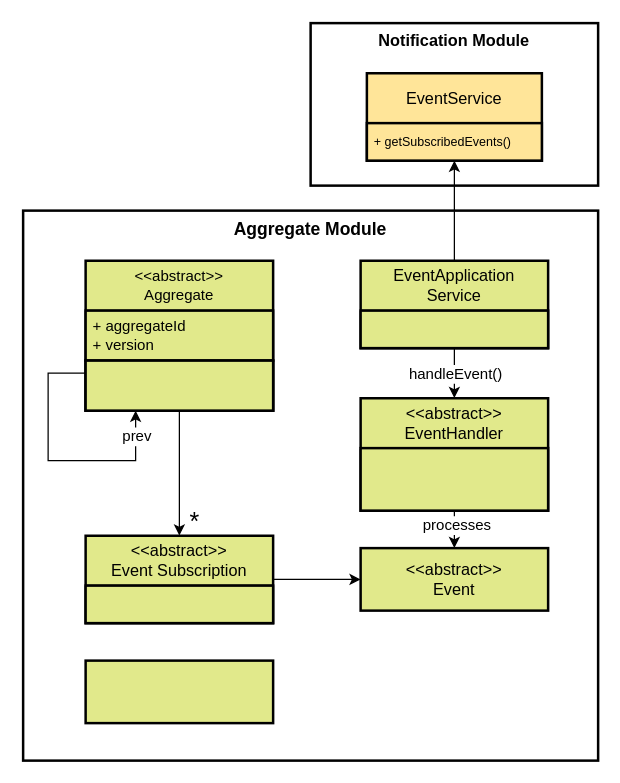
The diagram is 620 pixels wide and 783 high, and some of its shapes have lost their labels. The shapes that lost their labels are listed below. From the top down, each one's centre as x and y in pixels, then its label:
At pixel 454 329: "+ handleSubscribedEvent()".
At pixel 179 385: "+ verifyInvariants() + getEventSubscriptions()".
At pixel 454 478: "+ getAggregateIds() + getEventSubscriptions() + handleEvent()".
At pixel 179 604: "+ subscribesEvent(Event)".
At pixel 179 691: "AggregateIdGenerator Service".
